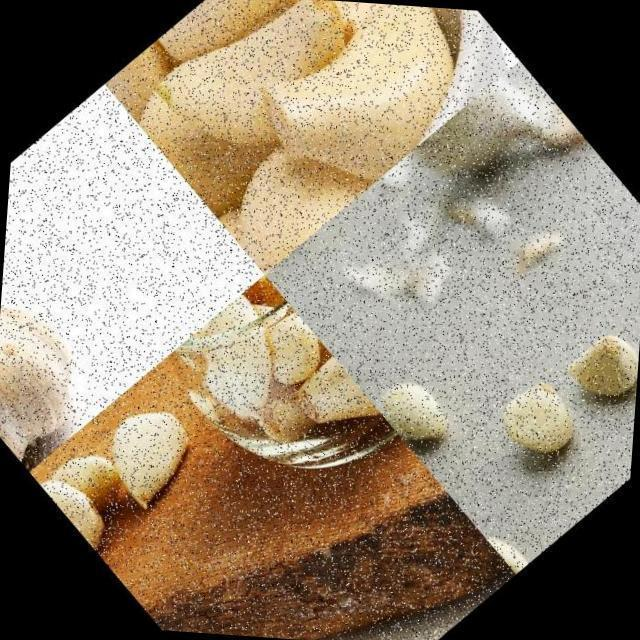garlic: (92, 0, 499, 288), (160, 269, 388, 497), (0, 218, 127, 476), (88, 386, 218, 516), (30, 431, 155, 557), (481, 366, 597, 483), (367, 364, 468, 466), (556, 317, 640, 417)
